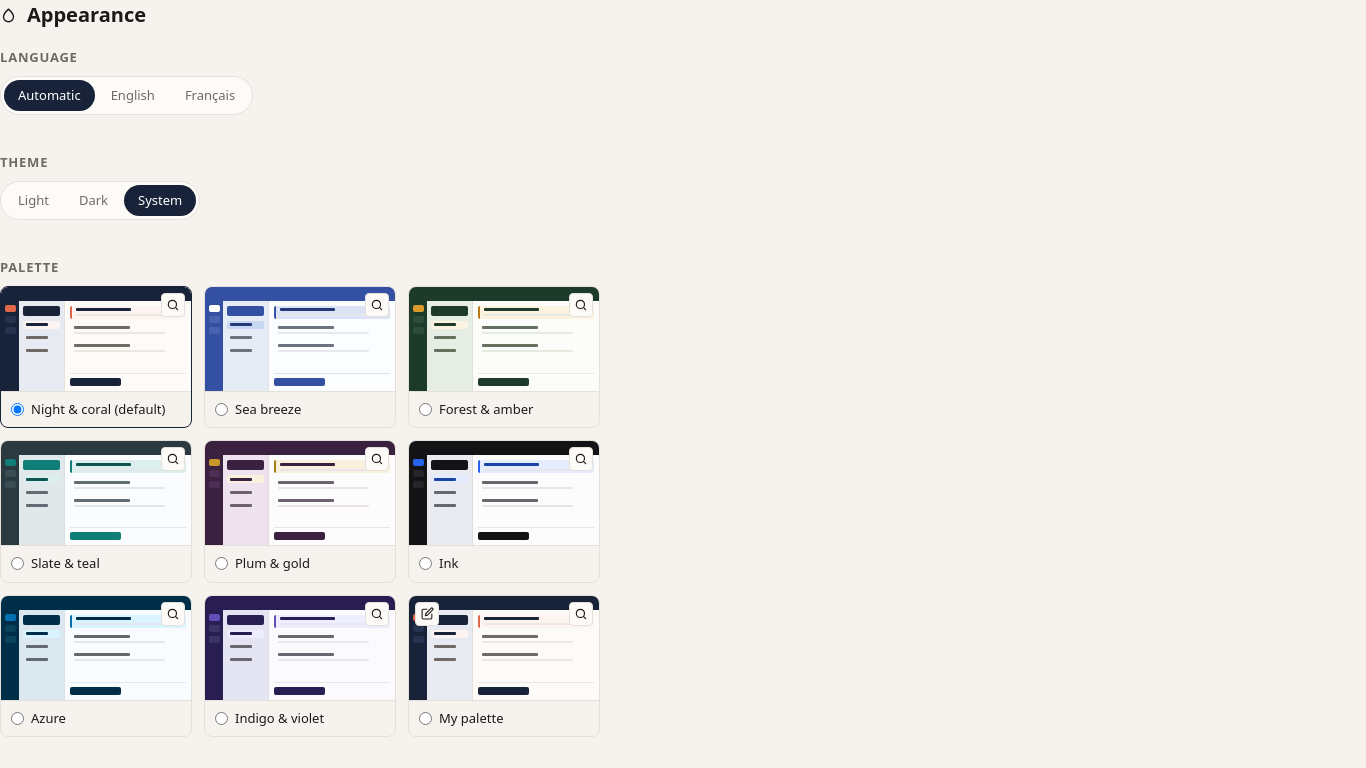
it: AppearancePage — my palette › reopens on the saved buttons choice
The width and height of the screenshot is (1366, 768).
Click the button named "Edit my palette". click: coordinates (427, 614)
box: [415, 602, 439, 626]
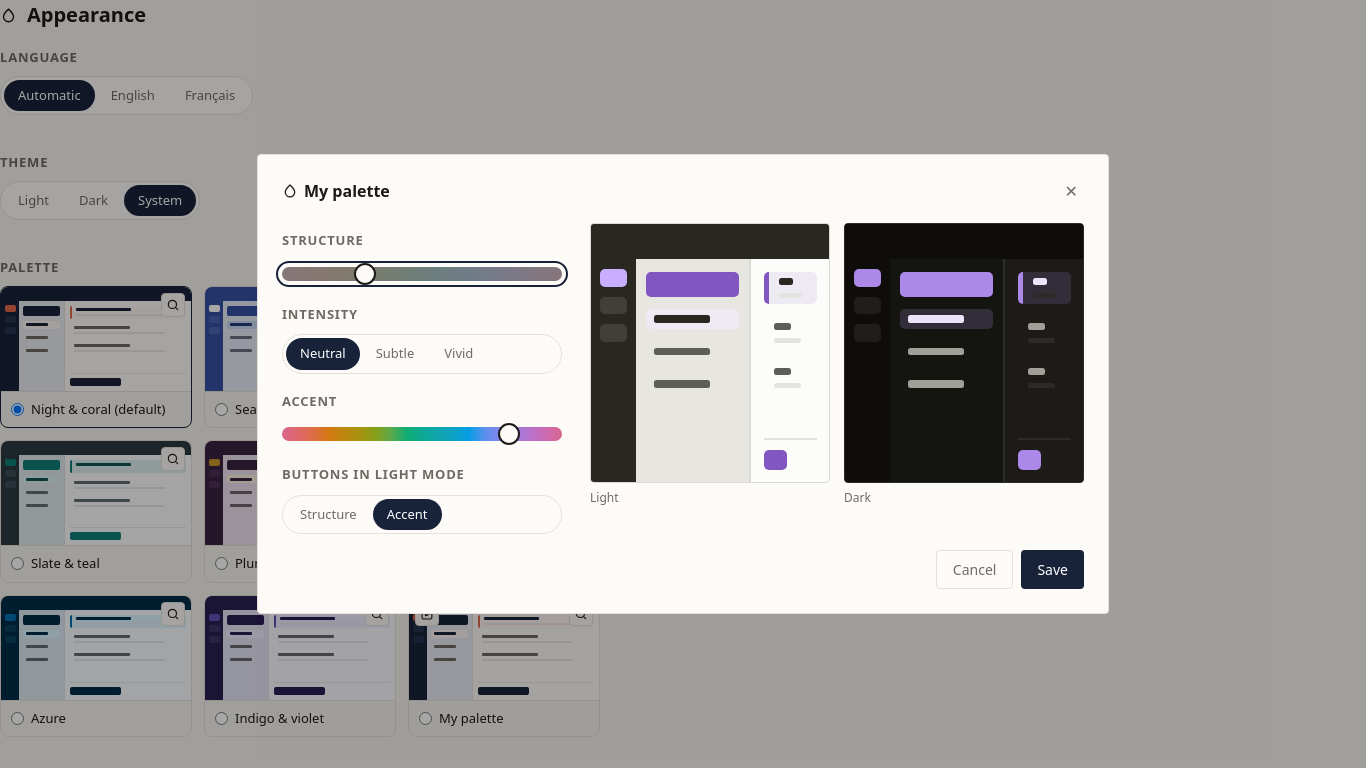
Now the radio button labelled "Accent" is checked, box [373, 498, 442, 530]
